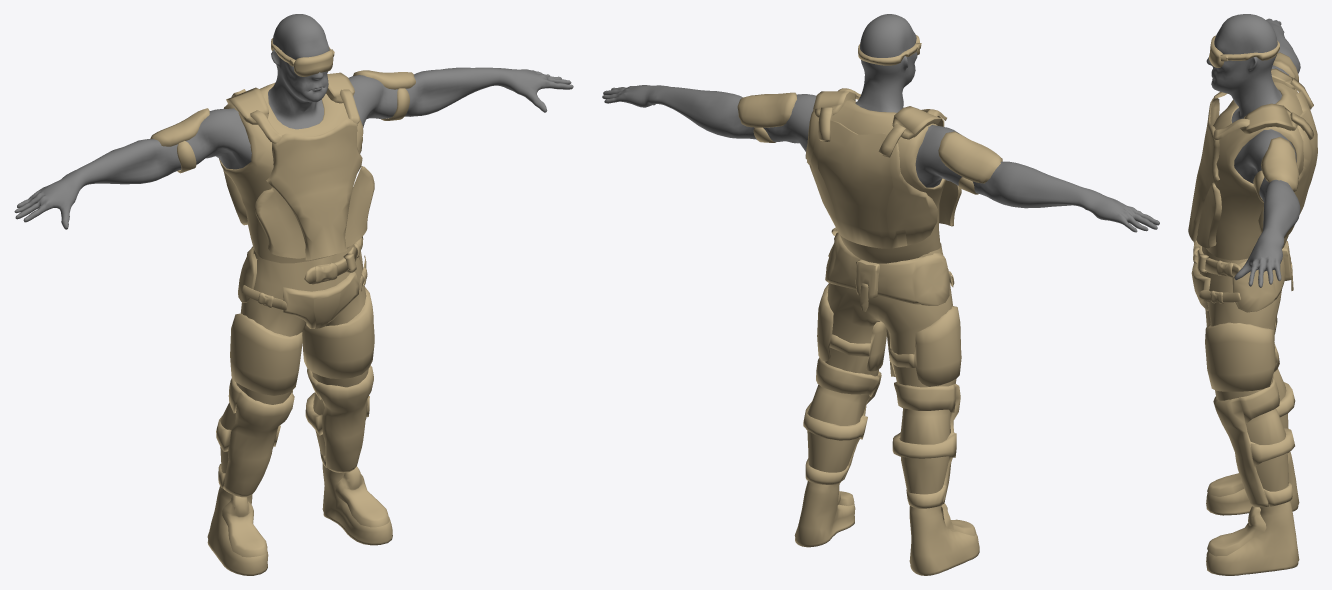
The model's file is hunterLowTest2.fbx.
3 views of the same model, side by side, from view 1: azimuth 30°, elevation 25°; view 2: azimuth 150°, elevation 25°; view 3: azimuth 270°, elevation 25° (orthographic).
Visible parts, largest first — view 1: hunter_low, skin_low, pants_low, bodyArmor_low, groin_low, buckles_low; view 2: hunter_low, skin_low, pants_low, back_low, bodyArmor_low, dunno_low, backPocket_low; view 3: hunter_low, skin_low, bodyArmor_low, pants_low, dunno_low, back_low, buckles_low, groin_low, belt_low, backPocket_low, beltSmall_low.
Boxes of the visible parts, x1,y1,x2,y2 form: hunter_low: (150,38,415,575); skin_low: (14,14,573,229); pants_low: (220,244,368,473); bodyArmor_low: (219,83,363,263); groin_low: (282,271,359,328); buckles_low: (258,237,367,307); hunter_low: (737,35,1002,575); skin_low: (602,14,1159,232); pants_low: (807,243,956,494); back_low: (809,120,937,248); bodyArmor_low: (805,98,945,263); dunno_low: (825,232,949,305); backPocket_low: (855,259,879,311); hunter_low: (1188,35,1313,575); skin_low: (1206,14,1300,287); bodyArmor_low: (1206,82,1303,260); pants_low: (1199,246,1288,491); dunno_low: (1232,257,1285,312); back_low: (1258,91,1317,237); buckles_low: (1193,240,1232,303); groin_low: (1191,262,1210,310); belt_low: (1193,239,1241,277); backPocket_low: (1282,241,1293,290); beltSmall_low: (1199,290,1240,302).
Bounding box in the file's own units: 83.93 × 76.42 × 17.17.
